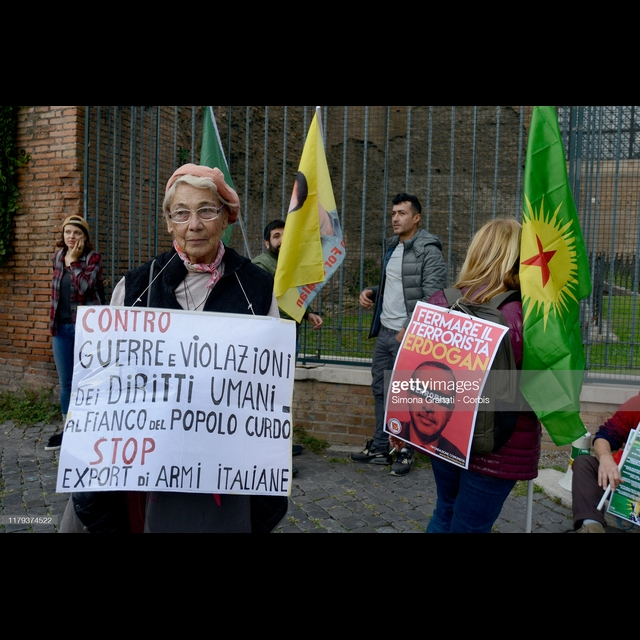KCK: (519, 203, 581, 325)
